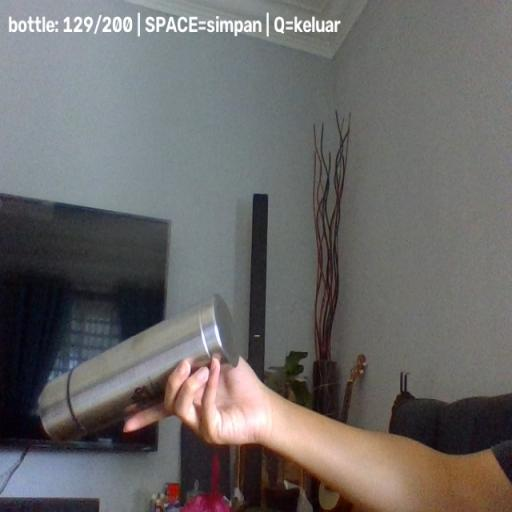Bottle: (35, 294, 239, 444)
